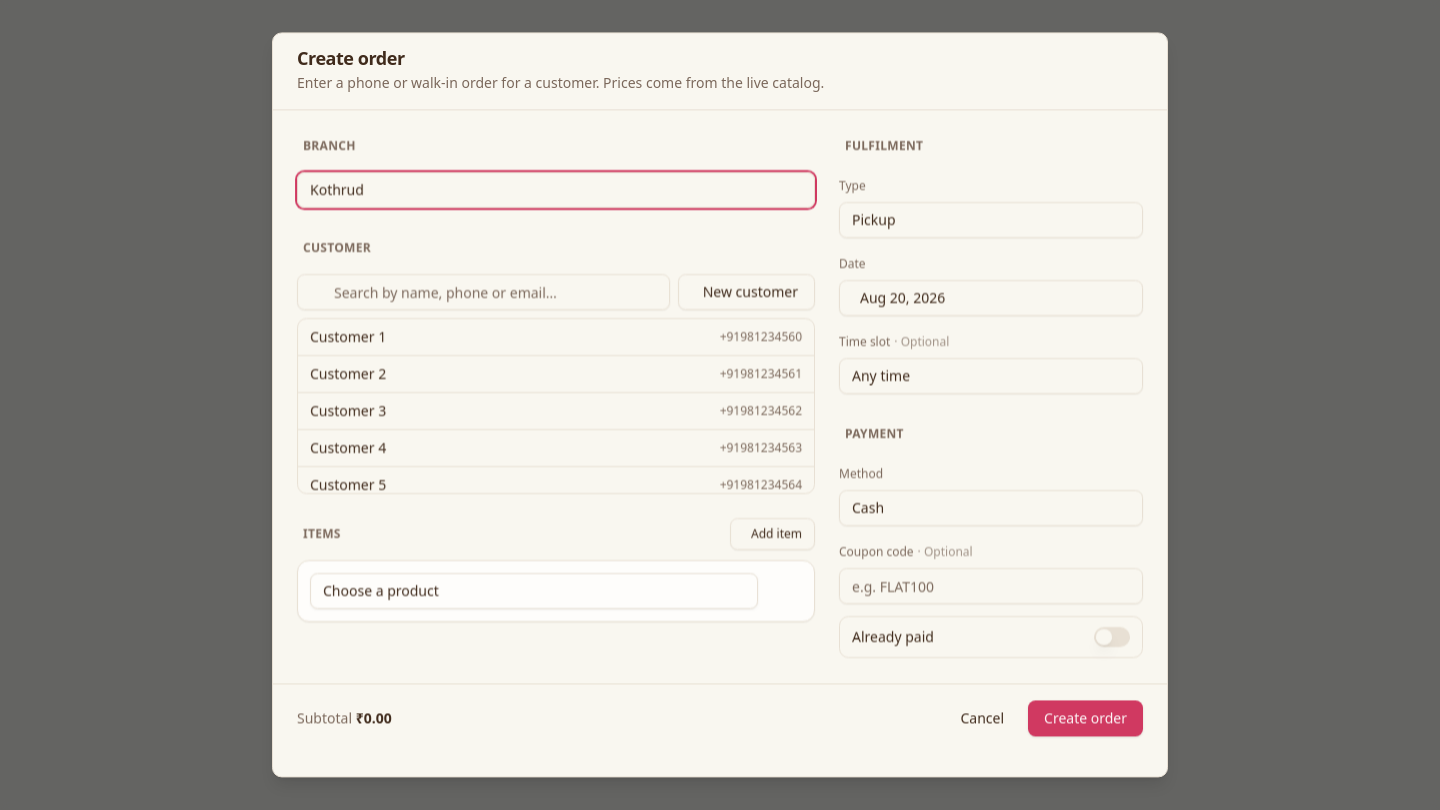
Test case: CreateOrderDialog new customer › goes back to the picker if the form is cancelled
Click the button "New customer" at [746, 292], box [678,274,815,310]
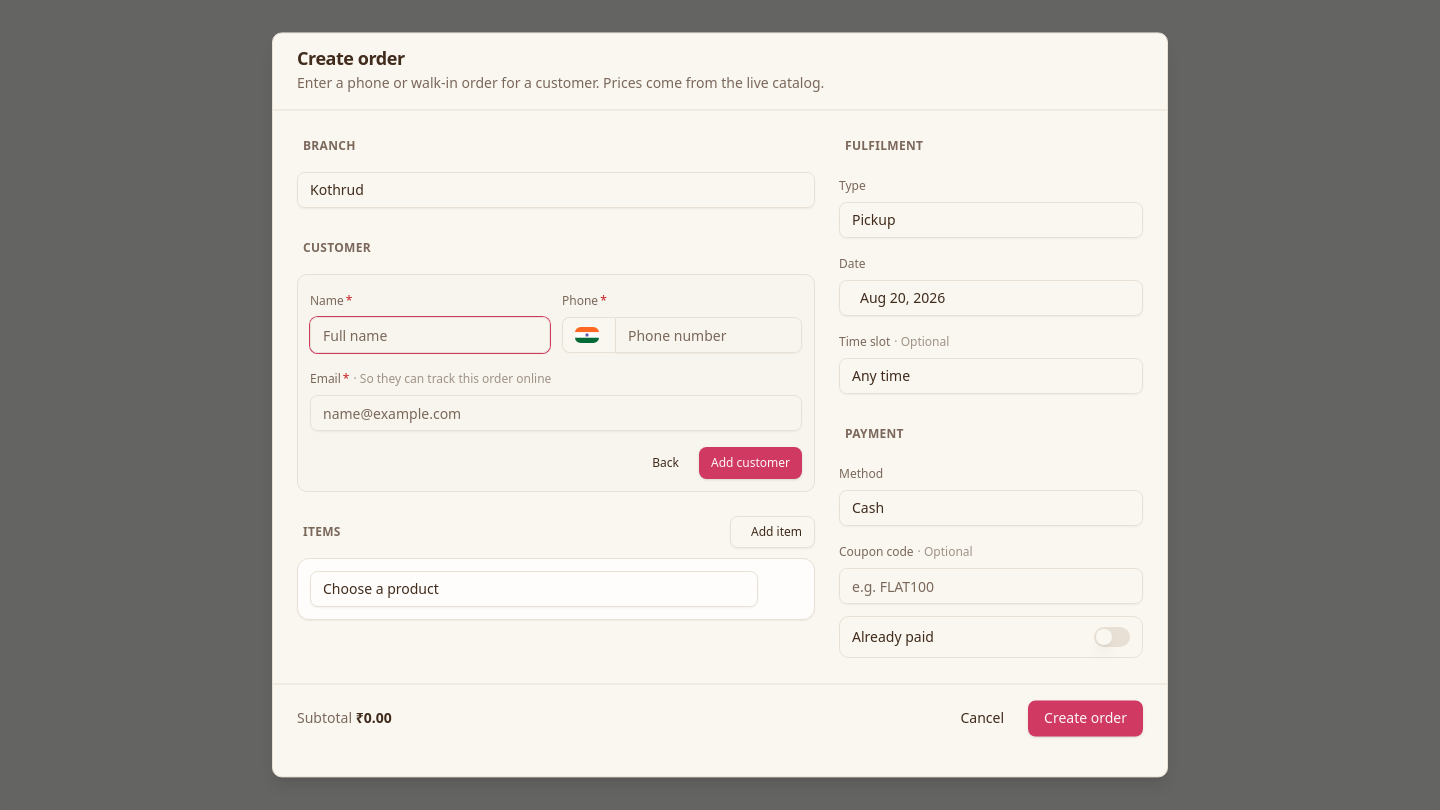
Result: the field with placeholder "Full name" is shown at [310,317,550,353]
Click the button "Back" at [662, 463], box [632,447,691,479]
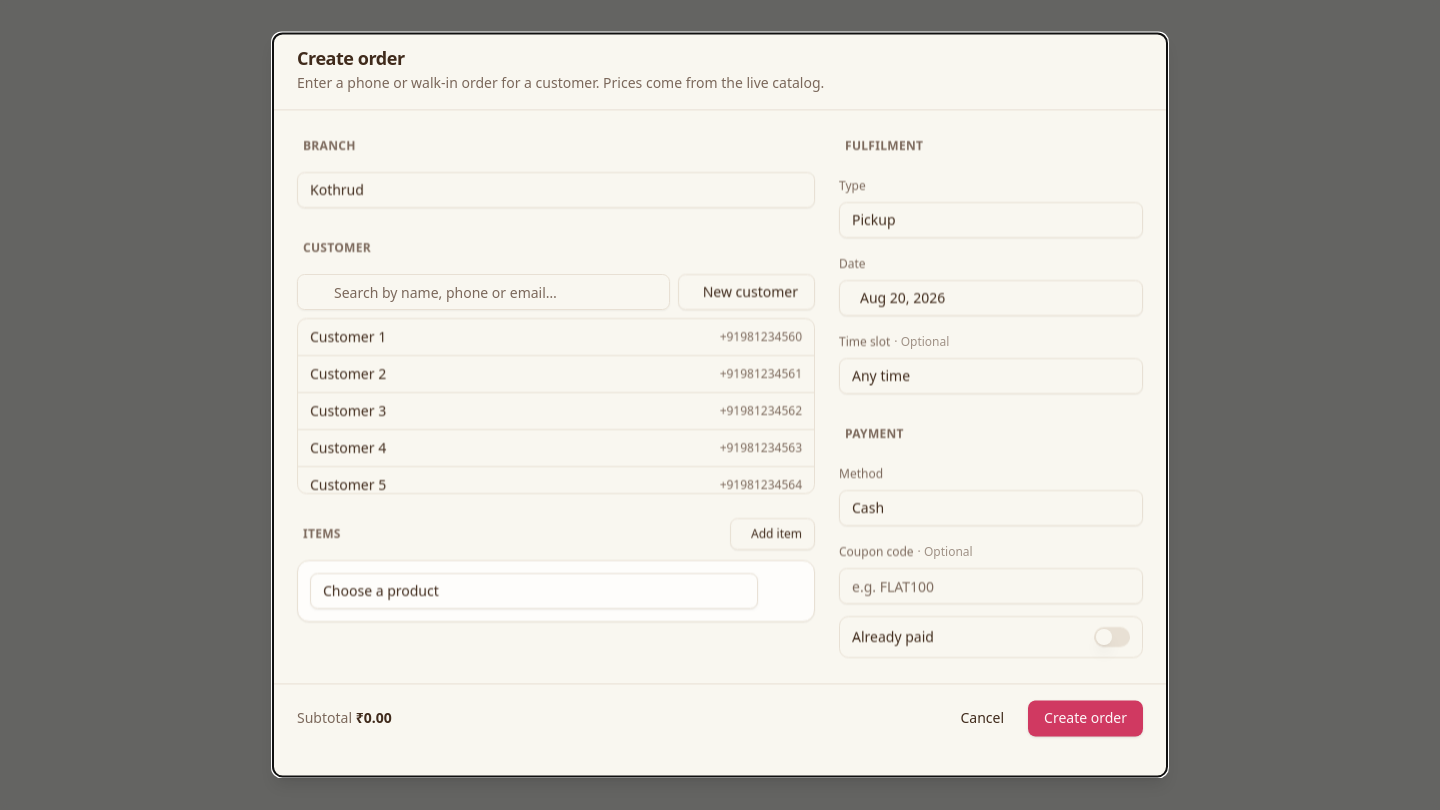
Result: the field with placeholder "Search by name, phone or email…" is shown at [297,274,670,310]
